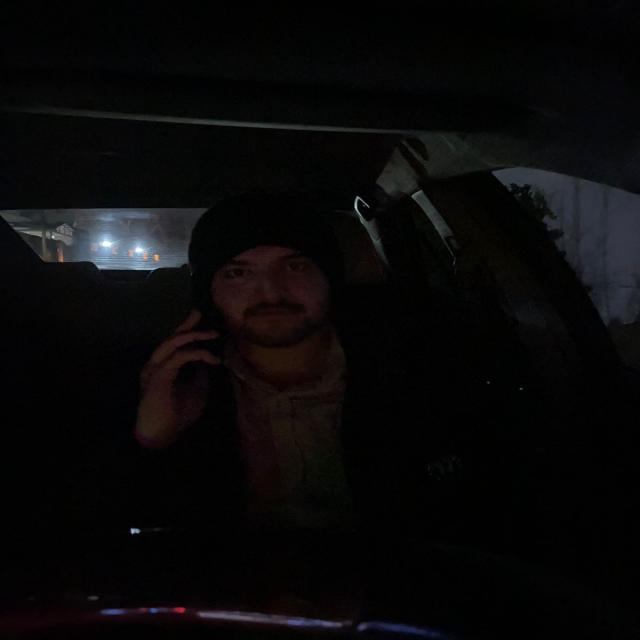person: (182, 190, 352, 360)
